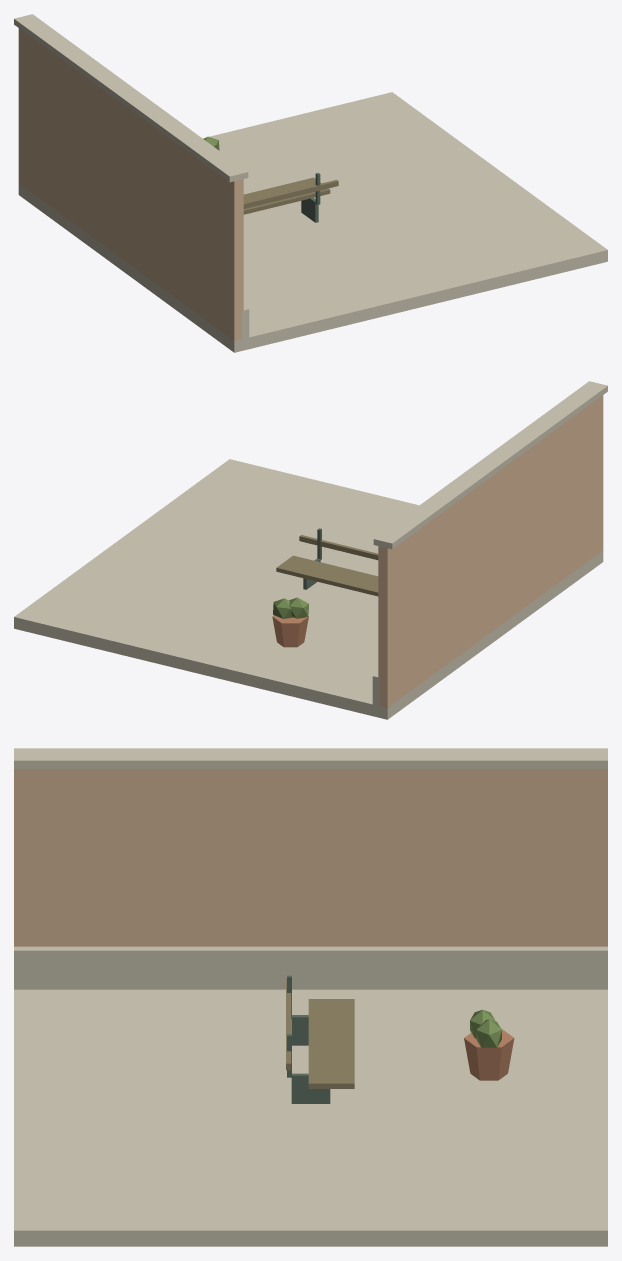
File: district-0-1-2.glb
3 views of the same model, one above another, from view 1: azimuth 30°, elevation 25°; view 2: azimuth 150°, elevation 25°; view 3: azimuth 270°, elevation 25° (orthographic). The views are drawn at different scales.
Parts seen in each view (by area): view 1: stone.021, plaster.019, wood.009, metal.008; view 2: stone.021, plaster.019, wood.009, clay.005, leaf.007; view 3: stone.021, plaster.019, wood.009, clay.005, metal.008, leaf.007.
Boxes of the visible parts, <box> form: stone.021: <box>14,14,607,352</box>; plaster.019: <box>18,28,243,340</box>; wood.009: <box>243,177,338,214</box>; metal.008: <box>301,173,320,222</box>; stone.021: <box>14,381,607,719</box>; plaster.019: <box>378,395,603,707</box>; wood.009: <box>276,535,378,596</box>; clay.005: <box>272,615,308,647</box>; leaf.007: <box>273,597,308,618</box>; stone.021: <box>14,748,607,1246</box>; plaster.019: <box>14,769,607,946</box>; wood.009: <box>286,978,354,1088</box>; clay.005: <box>464,1028,514,1080</box>; metal.008: <box>287,975,330,1103</box>; leaf.007: <box>470,1009,501,1047</box>.
Bounding box in the file's own units: 8.1 × 3.63 × 8.
